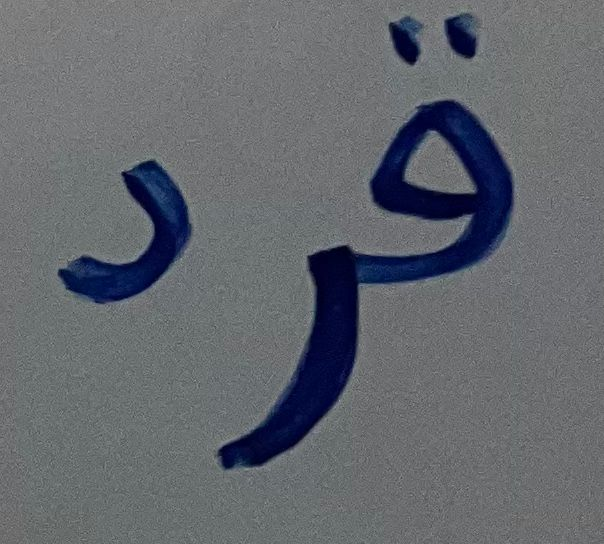dal: (46, 130, 206, 322)
qaf: (368, 4, 534, 283)
reh: (215, 231, 365, 478)
